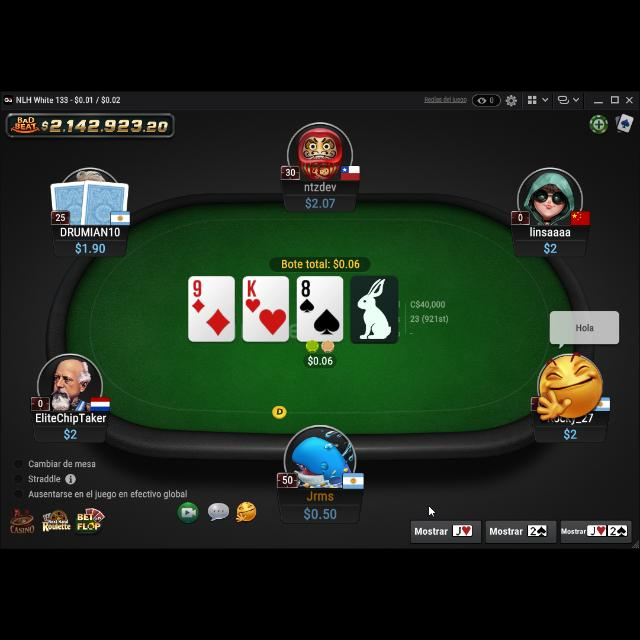8s: (298, 278, 316, 316)
9d: (192, 278, 206, 314)
Kh: (244, 278, 262, 314)
bet_text: (307, 354, 335, 366)
card_back: (80, 176, 130, 228), (48, 179, 92, 227)
dealer: (270, 402, 288, 420)
pot_text: (280, 258, 362, 270)
stack_text: (302, 504, 340, 520), (304, 194, 336, 210), (74, 241, 106, 255), (542, 240, 558, 253), (64, 424, 78, 438), (562, 425, 578, 437)
